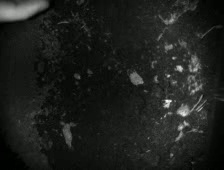corn: (70, 72, 83, 81)
